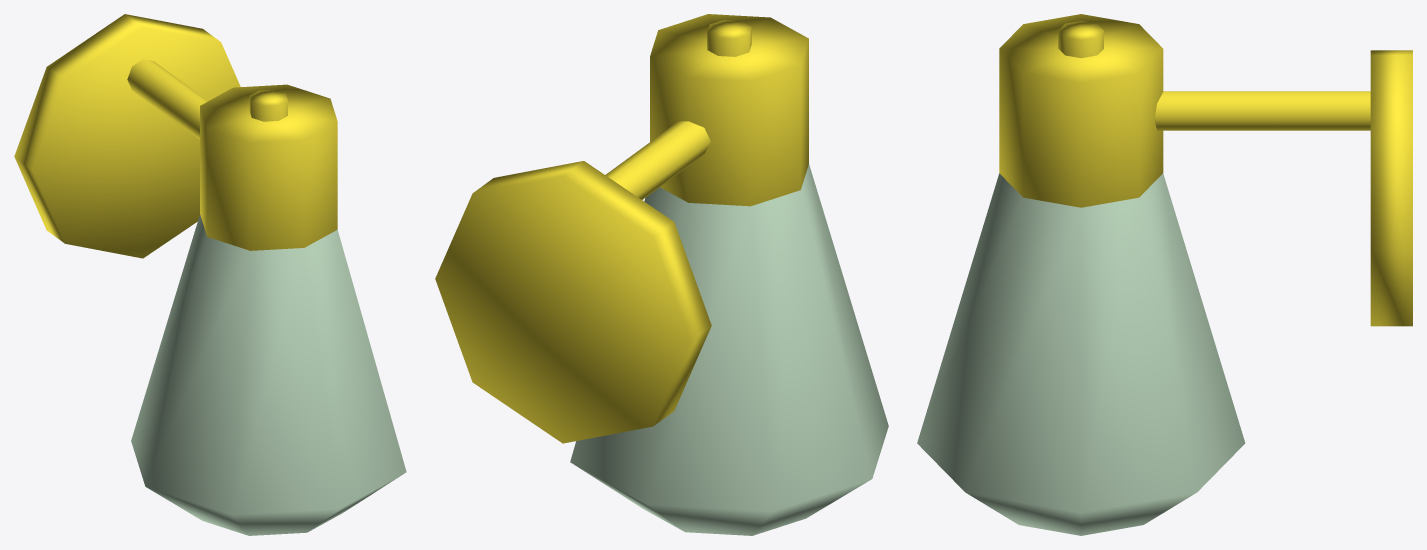
File: Wall Lamp 2.fbx
3 renders of one model, left to right at view 1: azimuth 30°, elevation 25°; view 2: azimuth 150°, elevation 25°; view 3: azimuth 270°, elevation 25°, orthographic. The views are drawn at different scales.
Visible parts, largest first — view 1: Wall_Lamp_2; view 2: Wall_Lamp_2; view 3: Wall_Lamp_2.
Part boxes in pixels (x1,y1,x2,y2): Wall_Lamp_2: (14, 14, 406, 535); Wall_Lamp_2: (435, 14, 888, 535); Wall_Lamp_2: (917, 14, 1412, 535).
Size of the model in its own units: 42.36 by 66.64 by 63.96.
